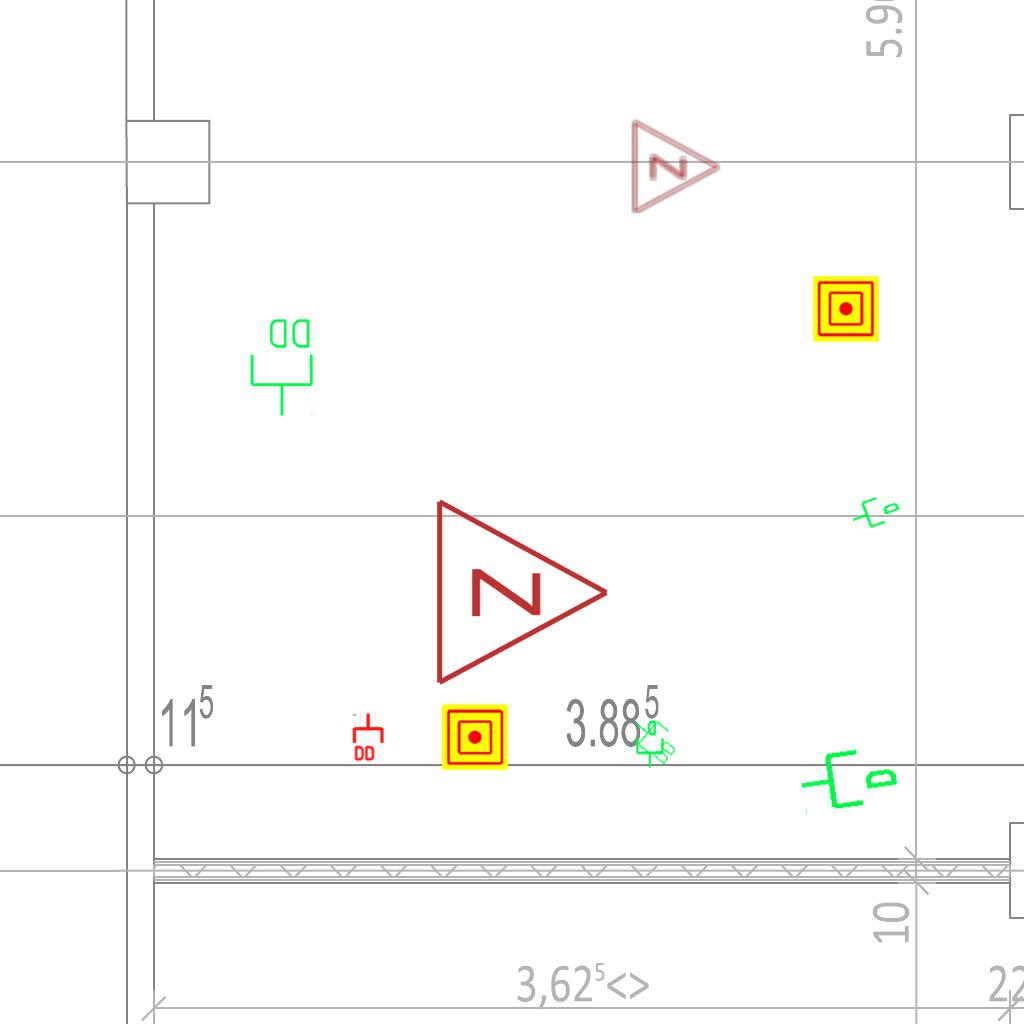Datenanschluss_einfach: (794, 735, 903, 819), (845, 486, 905, 536), (632, 719, 666, 769)
Datenanschluss_zweifach: (248, 315, 317, 418), (624, 709, 685, 769), (352, 712, 386, 763)
NAM-Nichtautomatischer_Melder: (813, 276, 879, 342), (442, 704, 508, 770)
Zimmersignalleuchte: (422, 492, 622, 688), (626, 117, 726, 215)
